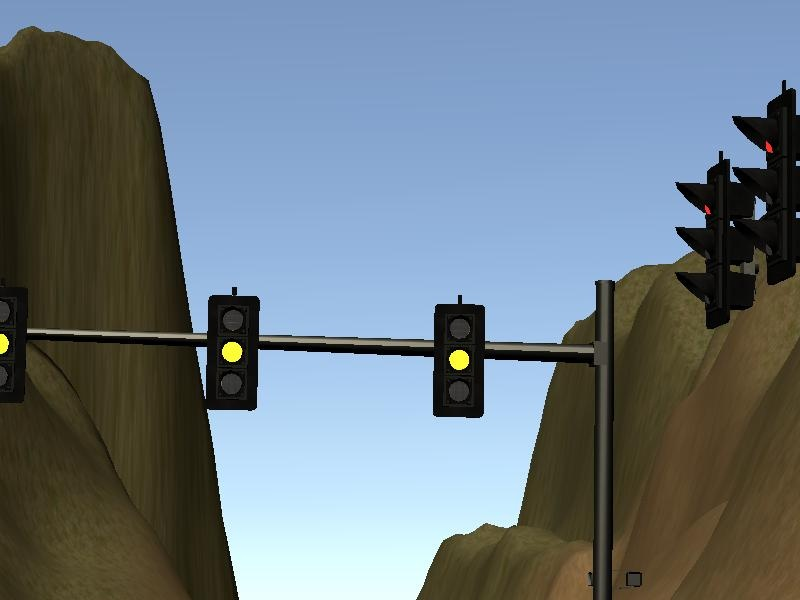YELLOW: (206, 287, 259, 413), (430, 297, 483, 423)
